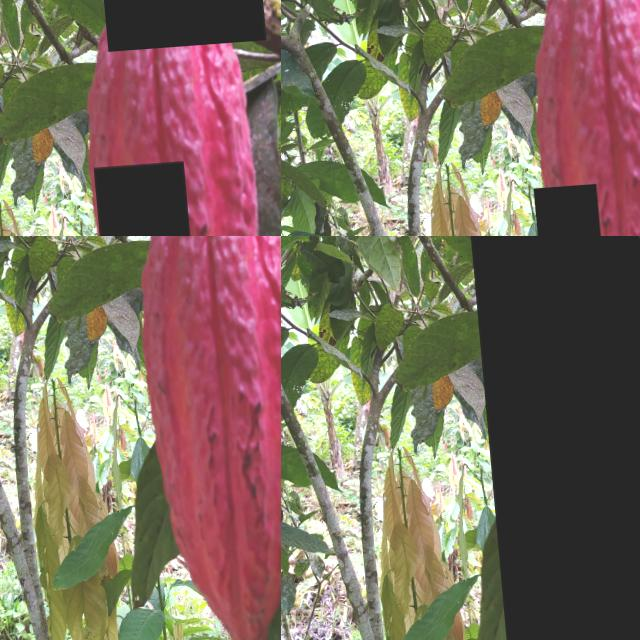Fitoftora: (420, 103, 456, 170), (348, 212, 391, 236)
Monilia: (59, 496, 164, 640)
Sana: (466, 236, 640, 640), (2, 536, 104, 640), (95, 0, 262, 56), (87, 167, 197, 236), (183, 236, 243, 324), (526, 189, 598, 236), (0, 516, 20, 573), (120, 400, 135, 447), (228, 346, 248, 378), (200, 391, 215, 426), (230, 420, 244, 454), (265, 316, 273, 337), (262, 301, 267, 324)
